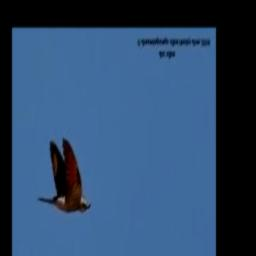Cuckoo: (36, 141, 90, 214)
